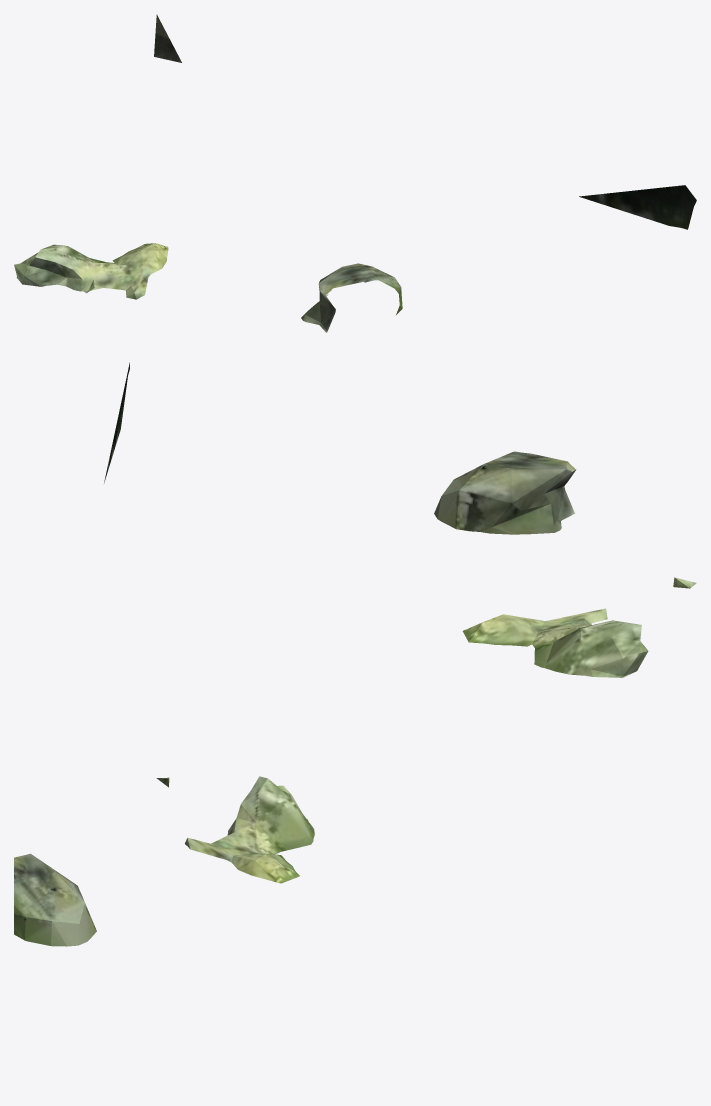
The picture shows the model from 3 angles, top to bottom: view 1: azimuth 30°, elevation 25°; view 2: azimuth 150°, elevation 25°; view 3: azimuth 270°, elevation 25°; orthographic projection. The views are drawn at different scales.
Bounding box in the file's own units: 25.91 × 2.15 × 26.11.
Materials: 1 (1 with a texture image).
